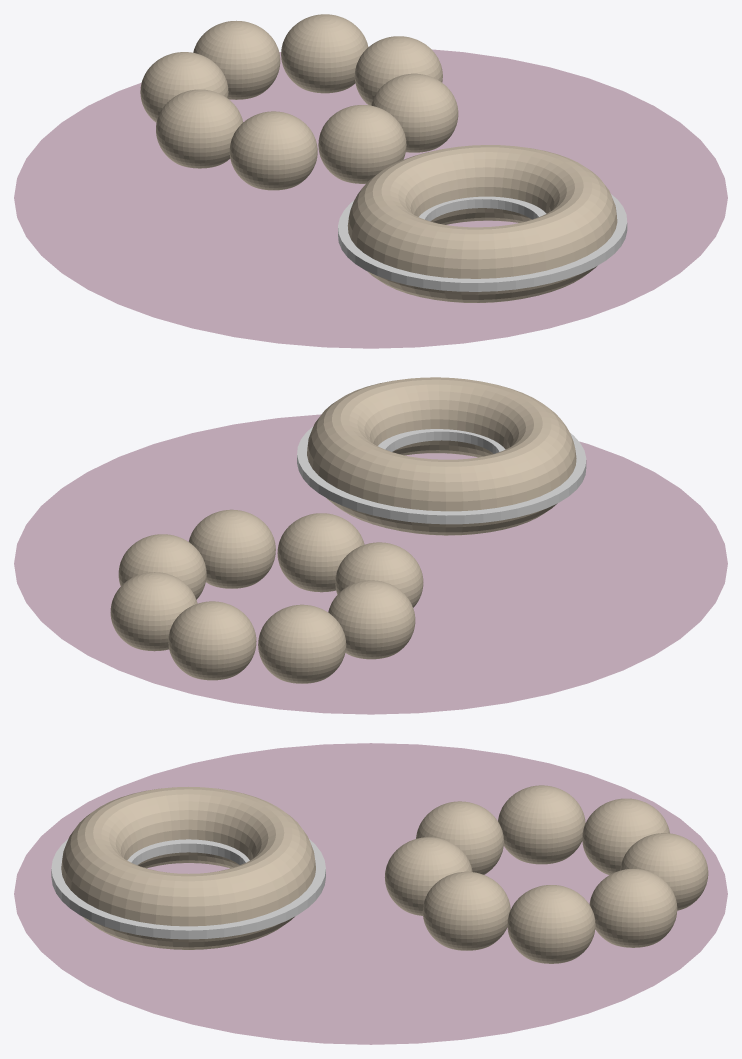
File: ellisyn .h mochinut and bagel.glb
3 views of the same model, one above another, from view 1: azimuth 30°, elevation 25°; view 2: azimuth 150°, elevation 25°; view 3: azimuth 270°, elevation 25° (orthographic).
Visible parts, largest first — view 1: Mesh_Mesh_head_geo.001_lambert2SG.001; view 2: Mesh_Mesh_head_geo.001_lambert2SG.001; view 3: Mesh_Mesh_head_geo.001_lambert2SG.001.
Part boxes in pixels (box(x1,y1,x2,y2)): Mesh_Mesh_head_geo.001_lambert2SG.001: box(14, 14, 727, 348); Mesh_Mesh_head_geo.001_lambert2SG.001: box(14, 377, 727, 714); Mesh_Mesh_head_geo.001_lambert2SG.001: box(14, 743, 727, 1044).
Bounding box in the file's own units: 0.0728 × 0.013 × 0.0728.
